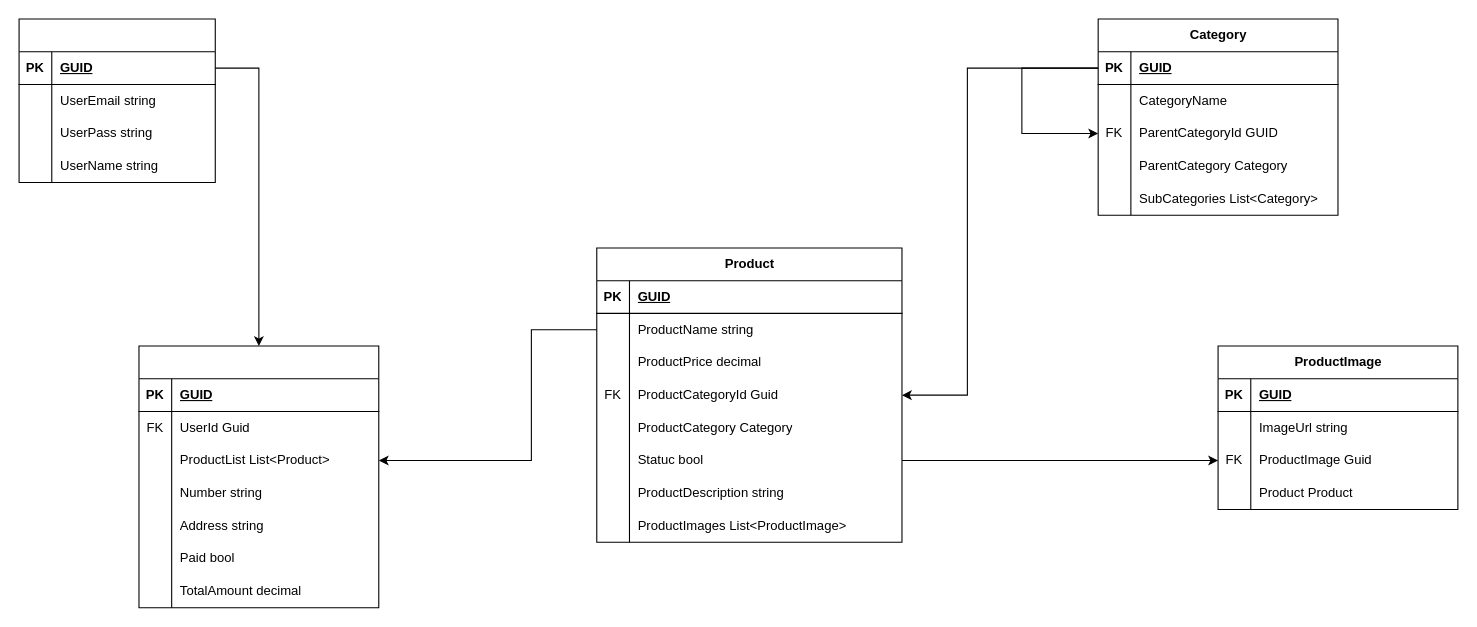
This 1477x627 diagram has some shape labels left out. Here are the shapes that lost their labels. From the top down, the box of each, then its label:
(18, 18, 215, 183): UserEntity
(138, 345, 379, 608): Order
